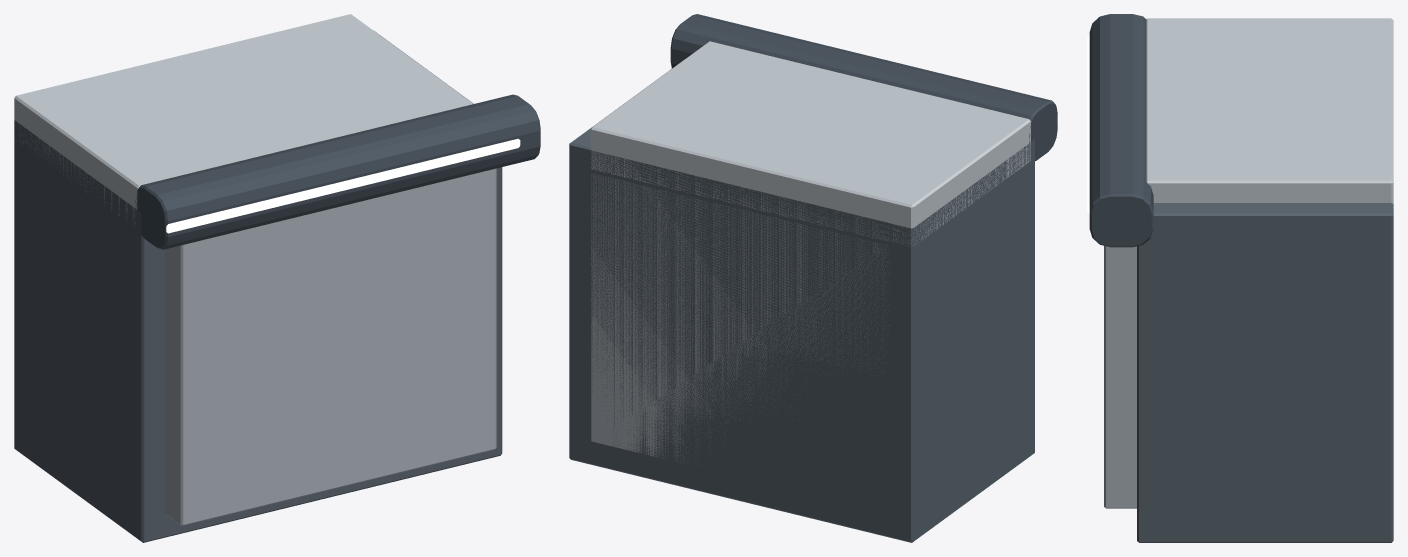
Rendered from Terrain_TopRun1R.gltf.
3 views of the same model, side by side, from view 1: azimuth 30°, elevation 25°; view 2: azimuth 150°, elevation 25°; view 3: azimuth 270°, elevation 25° (orthographic). The views are drawn at different scales.
Parts seen in each view (by area): view 1: Terrain_TopRun1R_baked; view 2: Terrain_TopRun1R_baked; view 3: Terrain_TopRun1R_baked.
Part boxes in pixels (x1,y1,x2,y2): Terrain_TopRun1R_baked: [14, 14, 540, 542]; Terrain_TopRun1R_baked: [569, 14, 1058, 542]; Terrain_TopRun1R_baked: [1087, 14, 1393, 542].
Bounding box in the file's own units: 1.04 × 0.9495 × 0.74.
